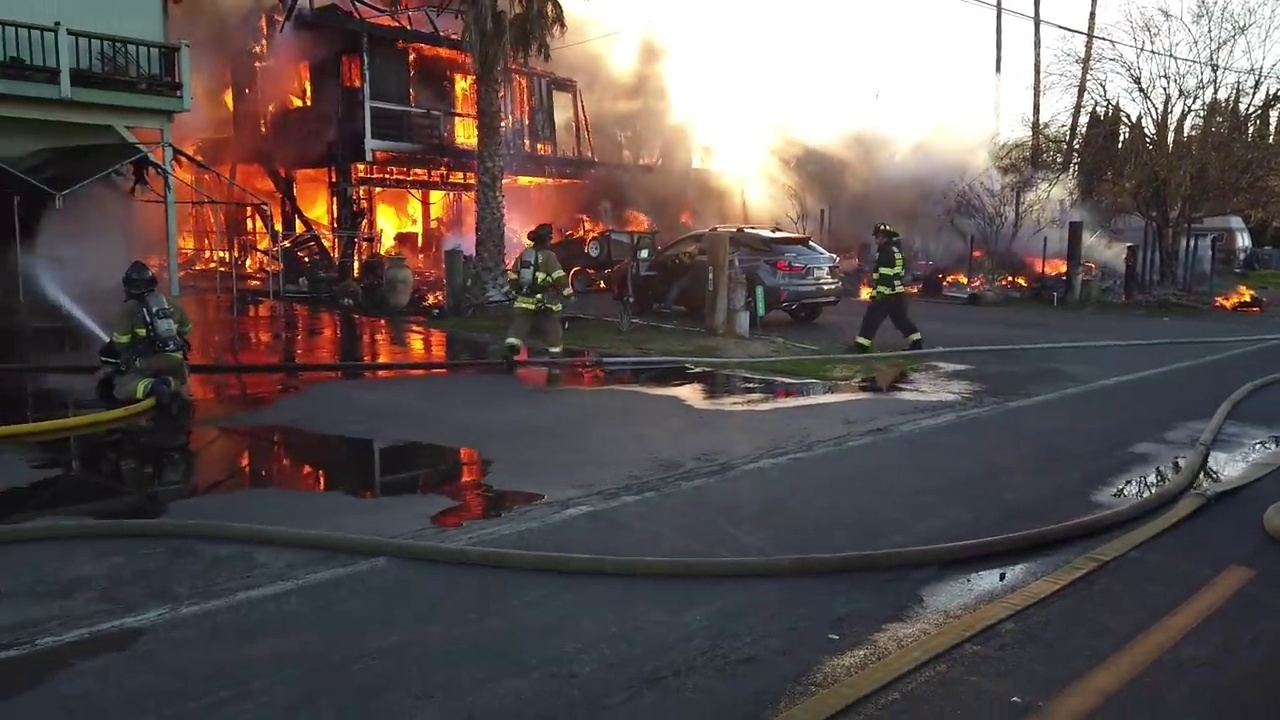fire: (164, 14, 589, 360), (450, 69, 481, 145), (286, 56, 314, 115), (1026, 251, 1070, 282), (940, 269, 1028, 284), (1212, 284, 1258, 306), (624, 209, 654, 229), (858, 280, 875, 297)
smoke: (581, 37, 802, 217), (791, 107, 998, 253), (14, 131, 137, 342), (702, 126, 801, 222)
